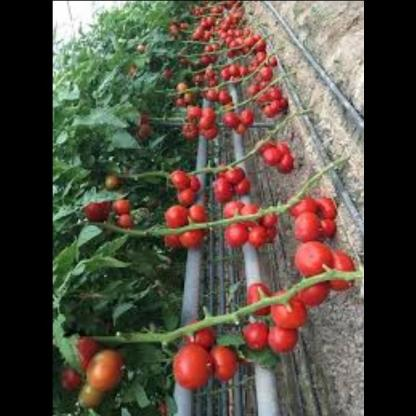tomato: (238, 248, 356, 354), (160, 319, 249, 391), (52, 333, 124, 406), (71, 179, 140, 240), (220, 196, 286, 250), (154, 194, 214, 252), (169, 1, 247, 42), (284, 190, 339, 246), (177, 102, 235, 146), (199, 27, 254, 72), (247, 76, 284, 124), (170, 78, 222, 111), (254, 136, 296, 176), (162, 173, 209, 205), (211, 60, 243, 104), (214, 161, 248, 202), (221, 106, 252, 138), (242, 53, 277, 81)
